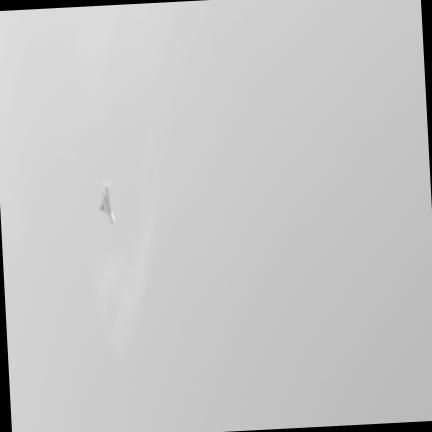Shahed: (98, 180, 114, 223)
